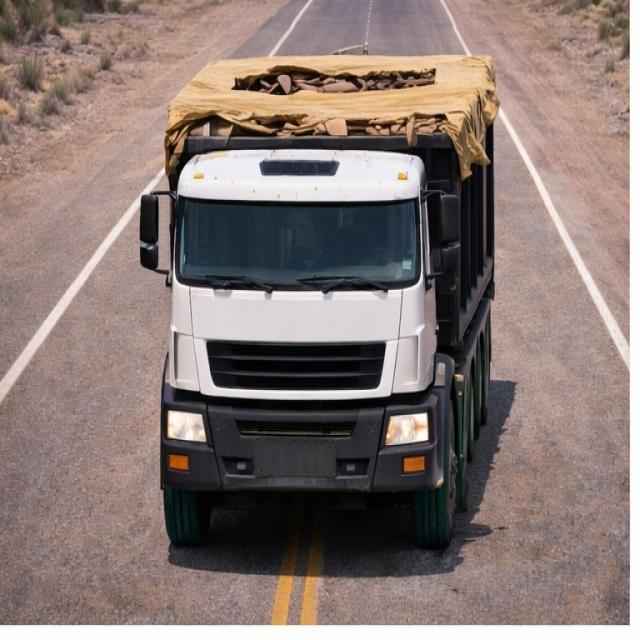trailer: (182, 55, 495, 154)
truck: (121, 39, 504, 533)
